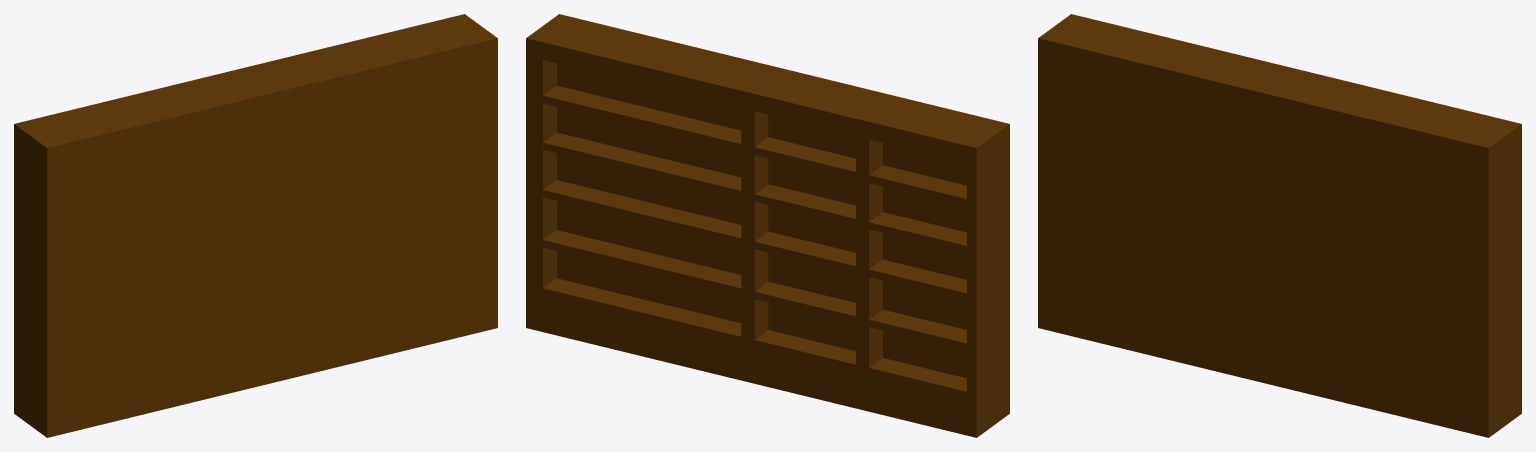
The model's file is TH_Bookshelf.fbx.
The picture shows the model from 3 angles, left to right: view 1: azimuth 30°, elevation 25°; view 2: azimuth 150°, elevation 25°; view 3: azimuth 330°, elevation 25°; orthographic projection.
Parts seen in each view (by area): view 1: THBookshelf_pCube1; view 2: THBookshelf_pCube1; view 3: THBookshelf_pCube1.
Part boxes in pixels (<box>): THBookshelf_pCube1: <box>14,14,497,437</box>; THBookshelf_pCube1: <box>526,14,1009,437</box>; THBookshelf_pCube1: <box>1038,14,1521,437</box>.
Bounding box in the file's own units: 6.81 × 4.19 × 0.8674.
